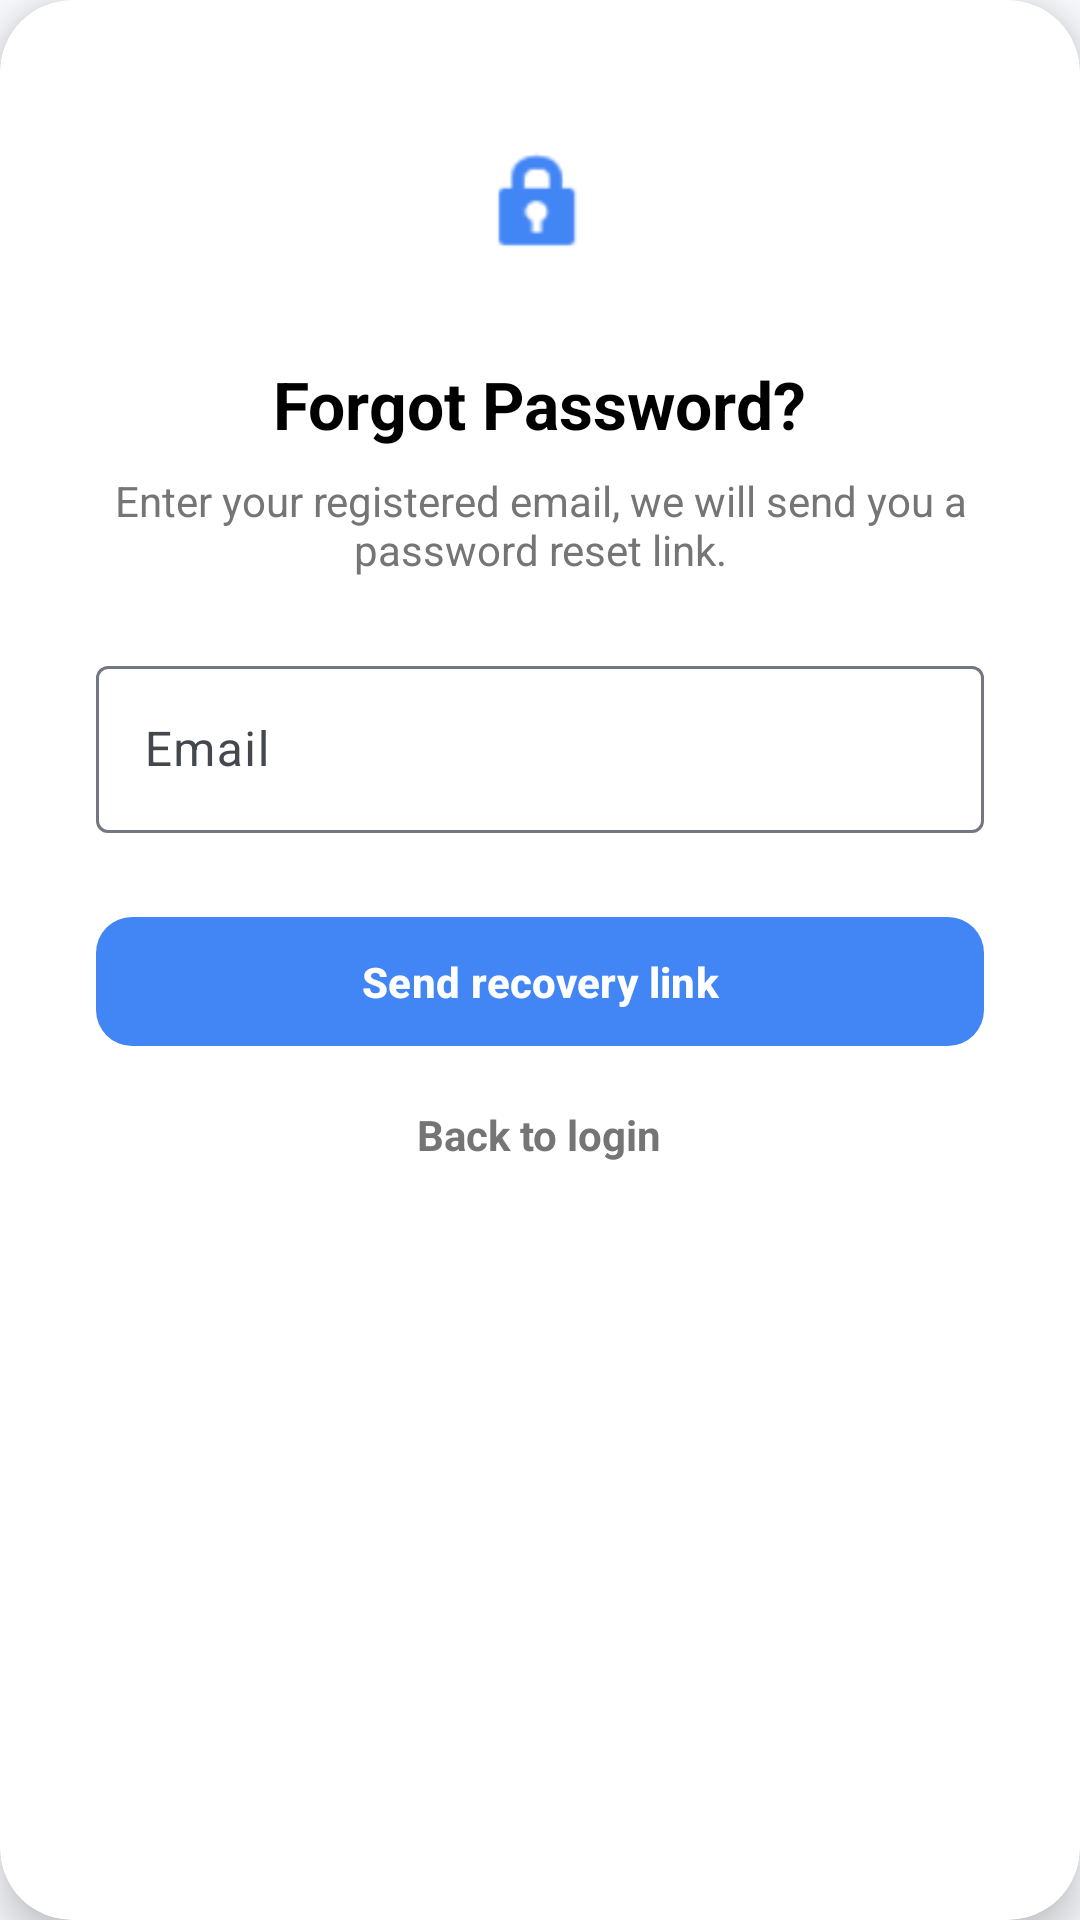

Icons on this 1080px x 1920px Android screen, each with the point to tap as (x,y):
lock idle: (537,200)
